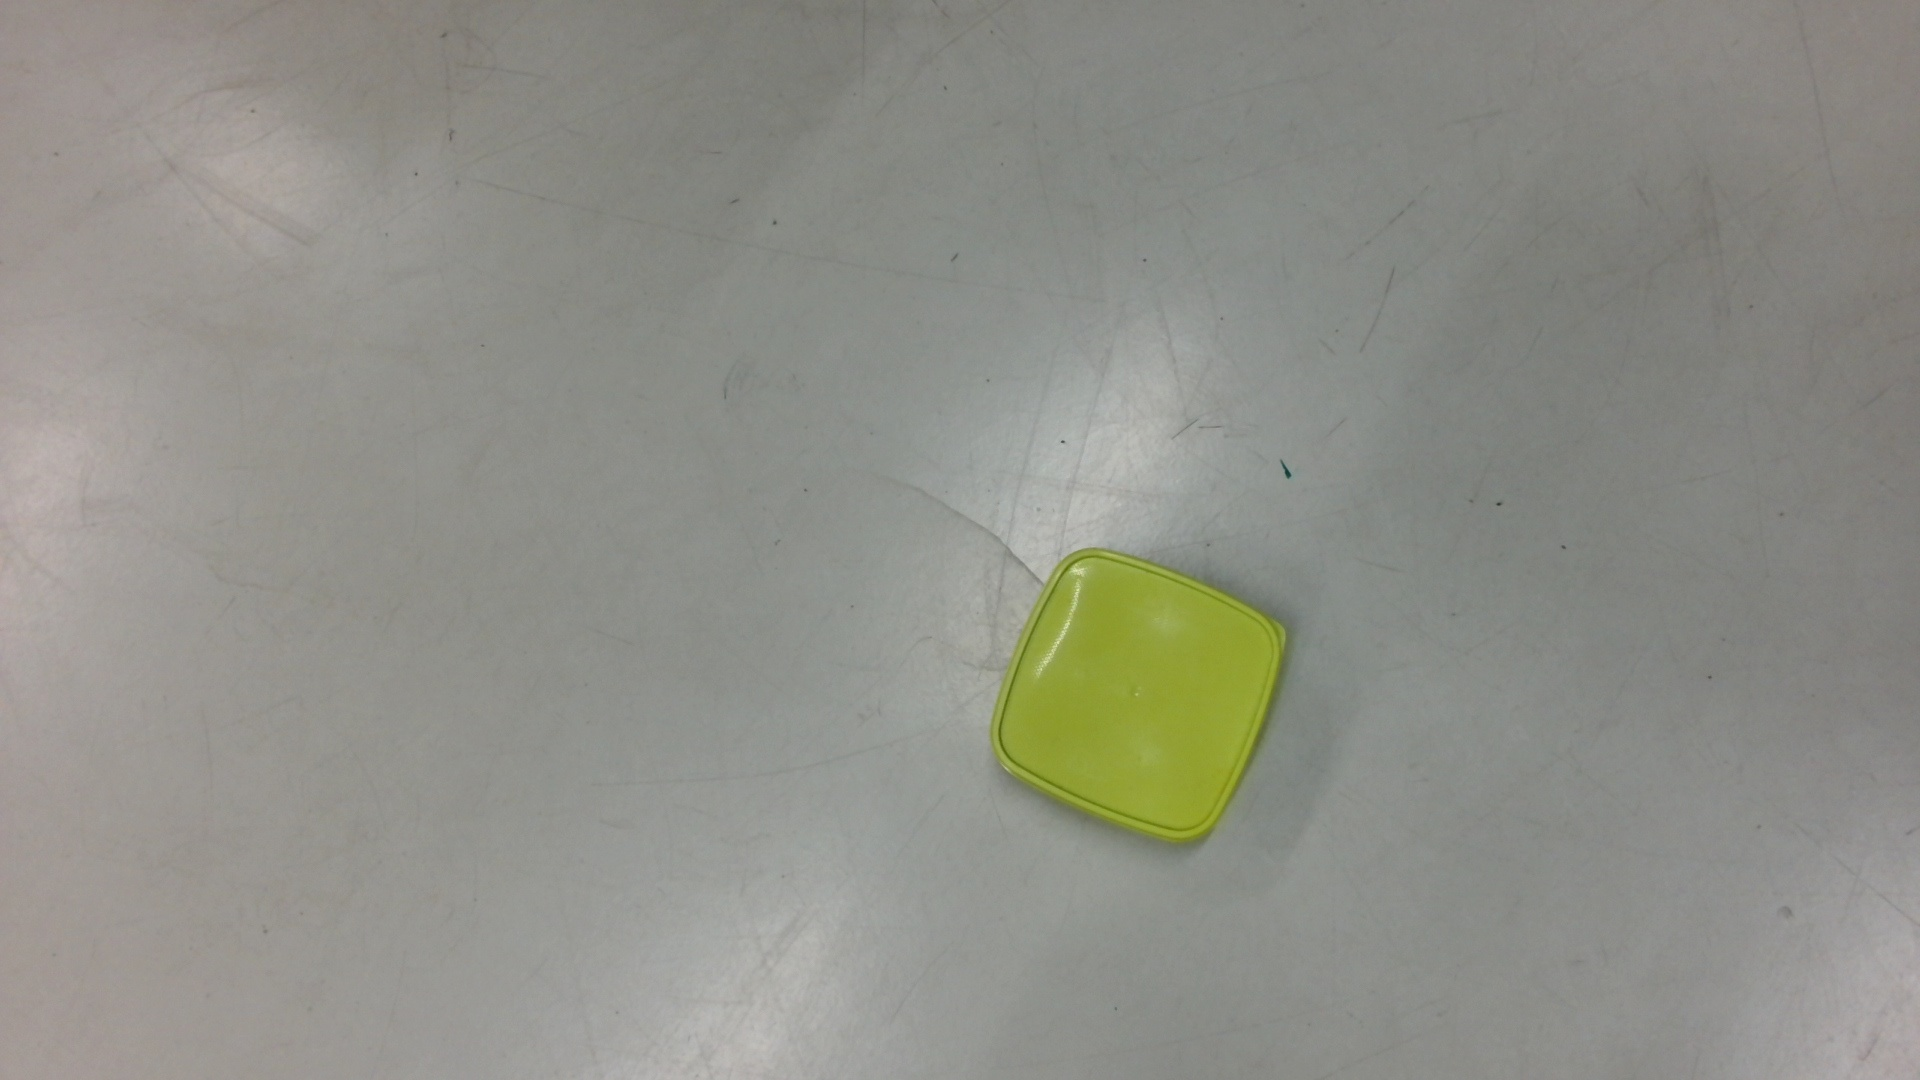Box: (984, 539, 1296, 856)
